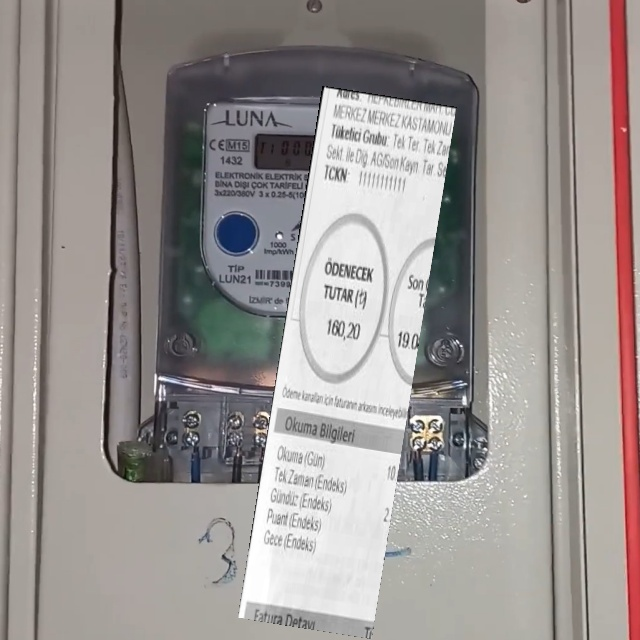electricity-bill: (238, 86, 457, 638)
